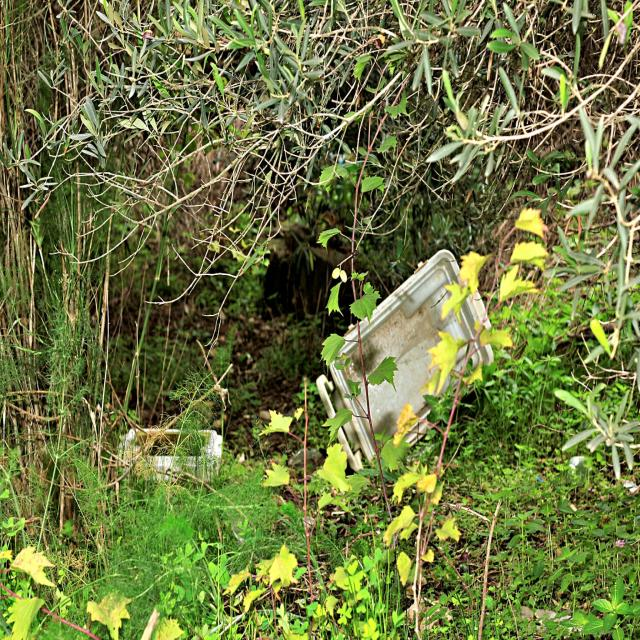Bottle: (113, 425, 225, 485)
Cup: (568, 456, 592, 481)
Other plastic: (310, 248, 496, 477), (533, 473, 543, 486)
